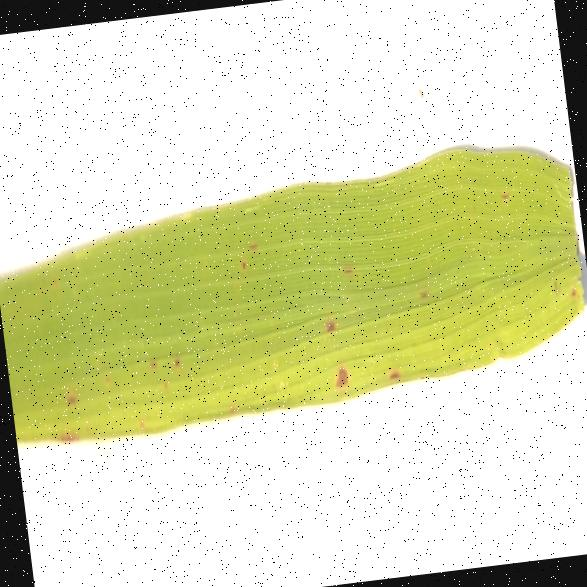Brown_Spot: (309, 276, 362, 398), (230, 218, 266, 278), (140, 350, 187, 382), (380, 340, 404, 400), (60, 375, 80, 419), (414, 276, 438, 310)
